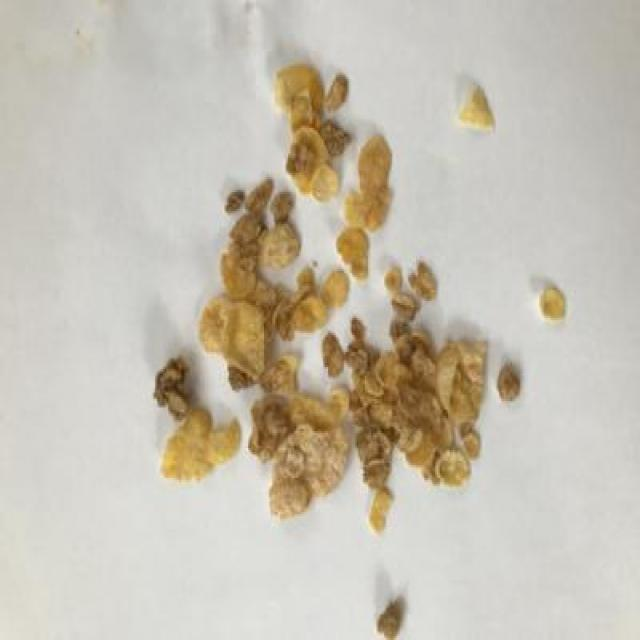compost: (133, 43, 544, 556)
